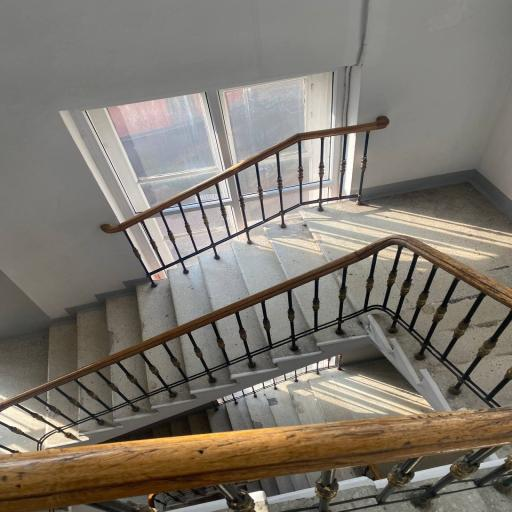laptop: (0, 183, 511, 511)
